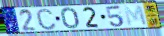2: (18, 8, 38, 32), (82, 6, 100, 29)
5: (105, 5, 126, 28)
C: (35, 7, 58, 31)
M: (123, 5, 149, 28)
O: (60, 7, 81, 30)
